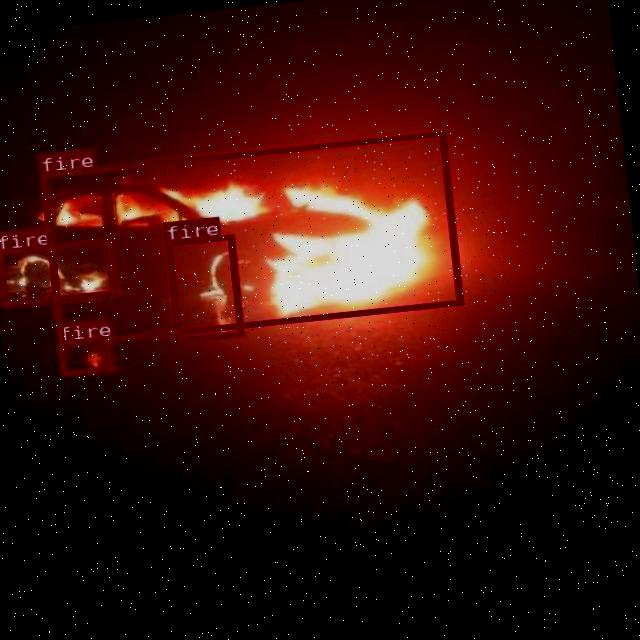fire: (39, 130, 461, 346), (165, 232, 242, 342), (0, 238, 116, 306), (57, 336, 112, 376)
